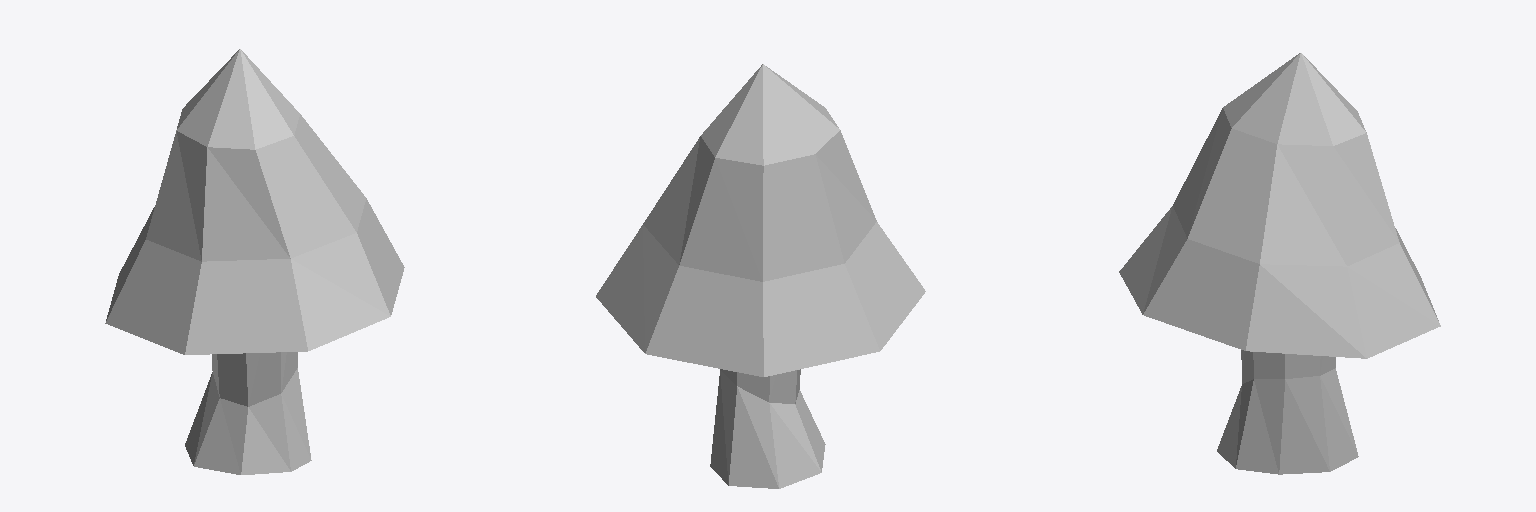
The model's file is mushroom_2.obj.
3 renders of one model, left to right at view 1: azimuth 30°, elevation 25°; view 2: azimuth 150°, elevation 25°; view 3: azimuth 270°, elevation 25°, orthographic.
Parts seen in each view (by area): view 1: Mushroom2_Cylinder.054; view 2: Mushroom2_Cylinder.054; view 3: Mushroom2_Cylinder.054.
Boxes of the visible parts, box(x1,y1,x2,y2) form: Mushroom2_Cylinder.054: box(105, 49, 404, 474); Mushroom2_Cylinder.054: box(596, 64, 925, 488); Mushroom2_Cylinder.054: box(1119, 53, 1440, 474).
Size of the model in its own units: 0.5566 by 0.8134 by 0.5899.